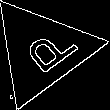P_SW: (9, 21, 75, 80)
